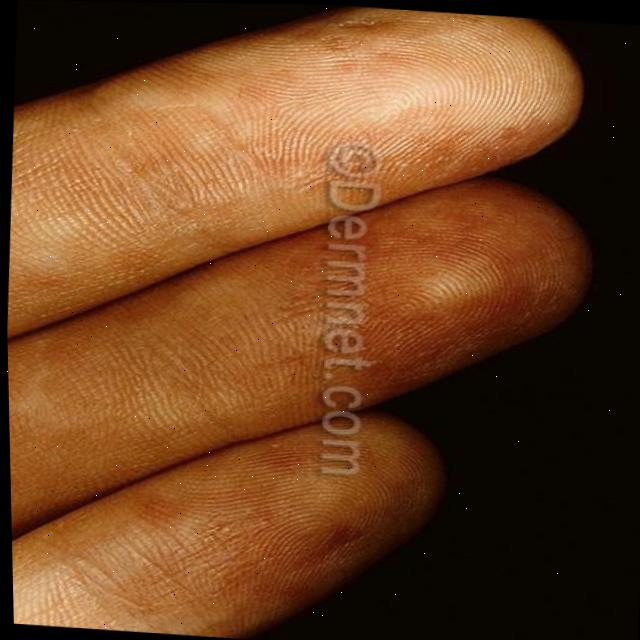Eczema: (7, 0, 570, 319), (163, 184, 576, 437), (114, 423, 430, 619)
